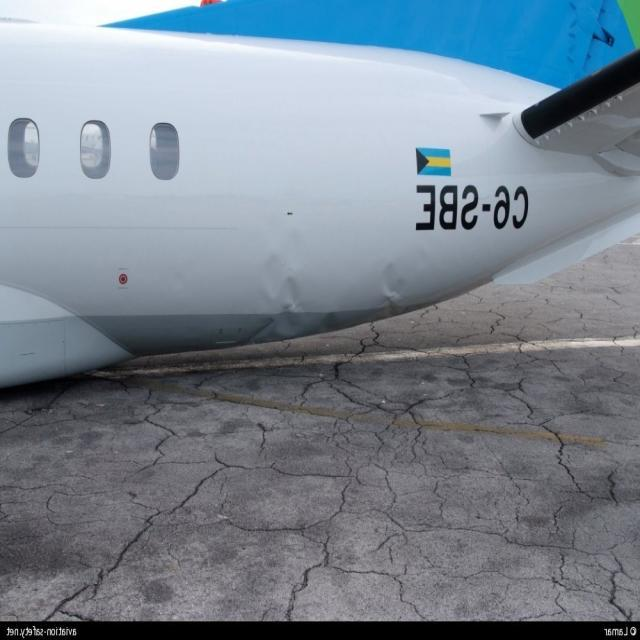dent: (258, 221, 315, 353), (374, 258, 409, 324)
